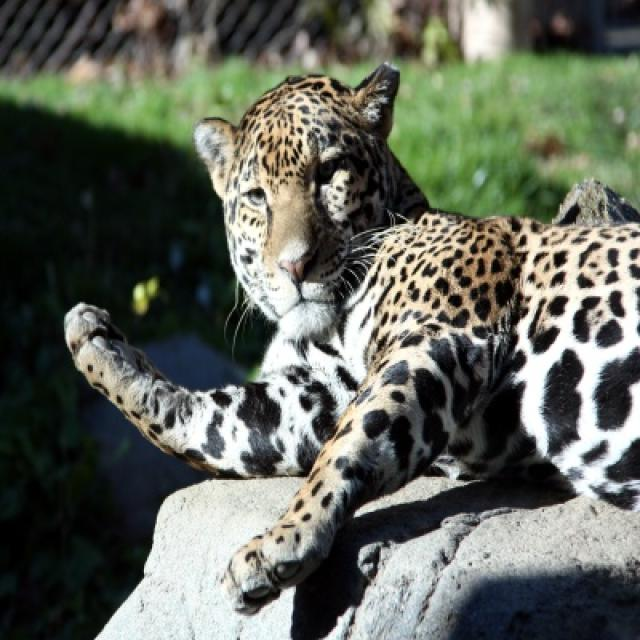Jaguar: (62, 66, 638, 618)
